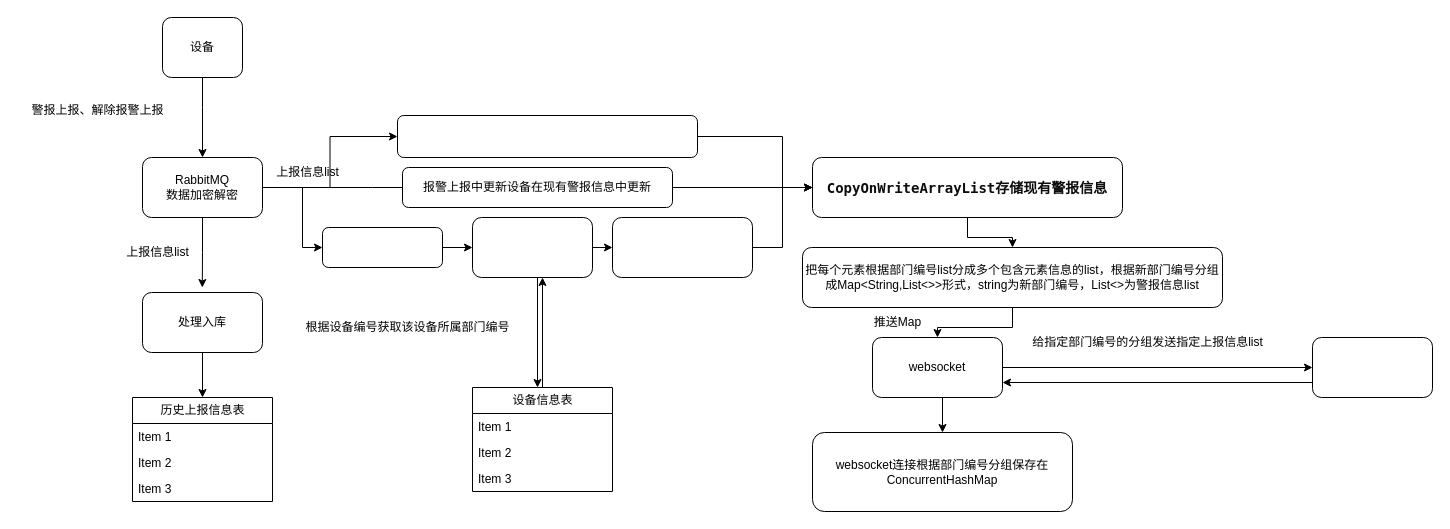
Some shapes in this 1450 by 529 pixel diagram are drawn without their labels. The shapes that lost their labels are listed below. From the top down, each one's centre as x and y in pixels, then its label:
At (x=547, y=136): "把解除报警上报涉及的设备在现有警报信息中删除".
At (x=382, y=247): "报警上报中新增设备".
At (x=532, y=247): "补充部门编号，并把部门编号拆分出有权限查看的部门编号list".
At (x=682, y=247): "在现有警报信息中新增".
At (x=1372, y=367): "前端应用、移动端".
